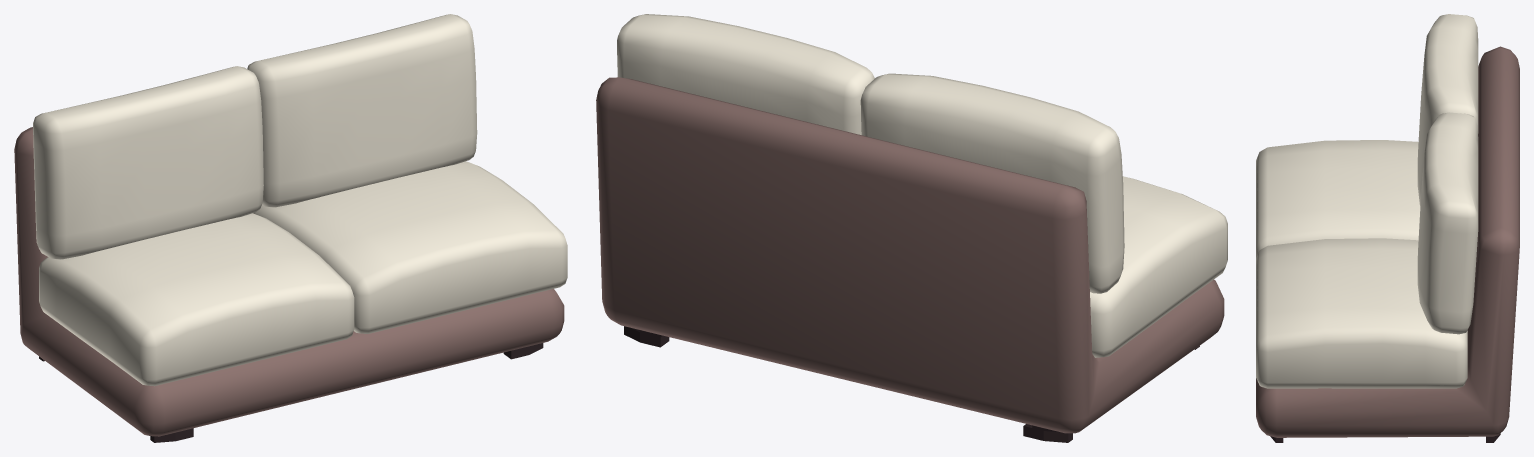
The model's file is Prop_Sofa_03_C.fbx.
3 renders of one model, left to right at view 1: azimuth 30°, elevation 25°; view 2: azimuth 150°, elevation 25°; view 3: azimuth 270°, elevation 25°, orthographic. The views are drawn at different scales.
Parts seen in each view (by area): view 1: Prop_Sofa_03_C; view 2: Prop_Sofa_03_C; view 3: Prop_Sofa_03_C.
Boxes of the visible parts, <box> form: Prop_Sofa_03_C: <box>14,14,567,442</box>; Prop_Sofa_03_C: <box>596,14,1227,442</box>; Prop_Sofa_03_C: <box>1256,14,1519,442</box>.
Bounding box in the file's own units: 172 × 101 × 97.43.
